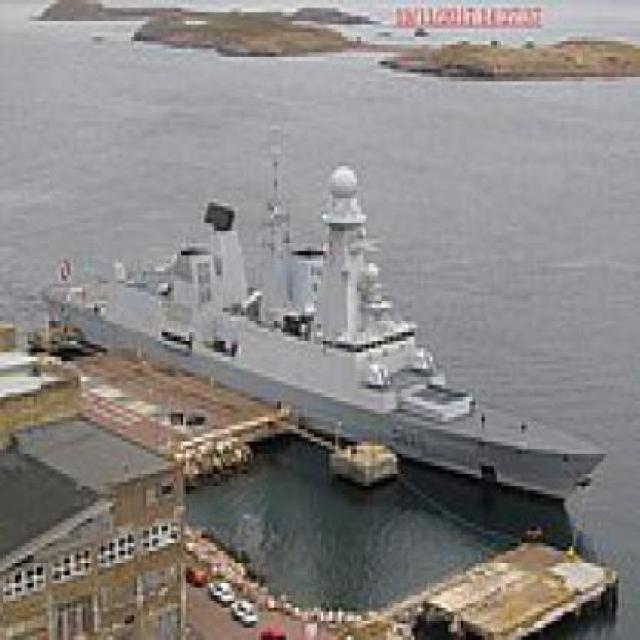warship2: (40, 107, 614, 516)
